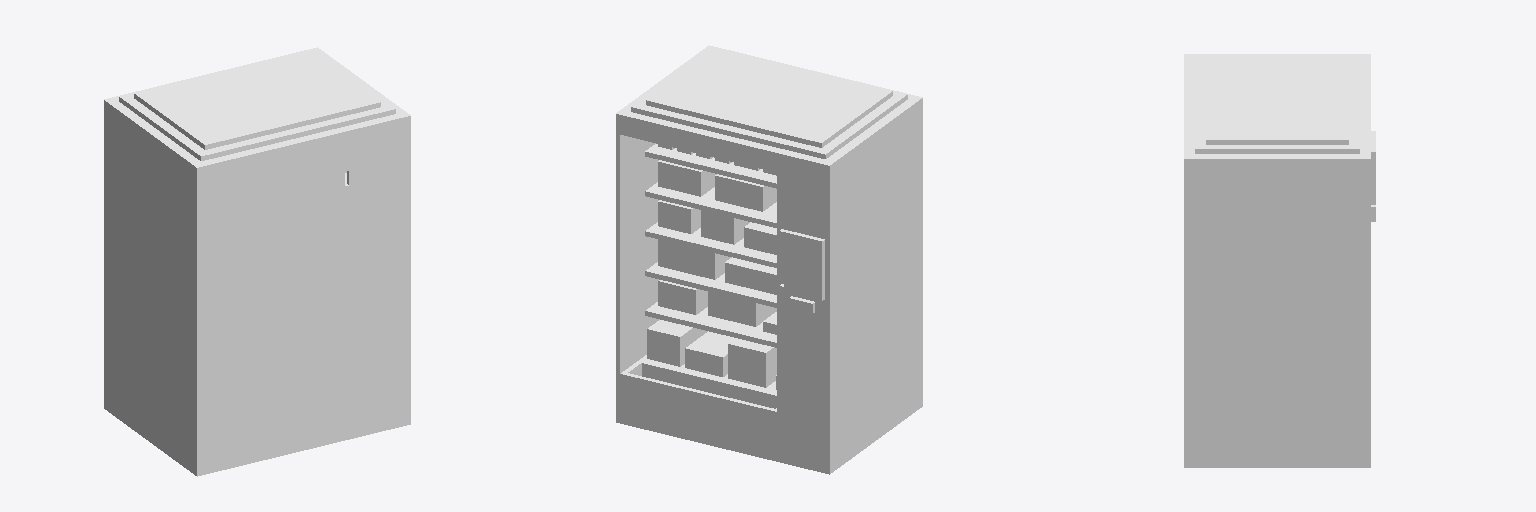
File: Vendingmachine.obj
The picture shows the model from 3 angles: view 1: azimuth 30°, elevation 25°; view 2: azimuth 150°, elevation 25°; view 3: azimuth 270°, elevation 25°; orthographic projection.
Parts seen in each view (by area): view 1: object 1; view 2: object 1; view 3: object 1.
Part boxes in pixels (x1,y1,x2,y2): object 1: (104, 47, 410, 476); object 1: (616, 45, 922, 474); object 1: (1184, 54, 1375, 467).
Bounding box in the file's own units: 4.5 × 6.4 × 3.5.